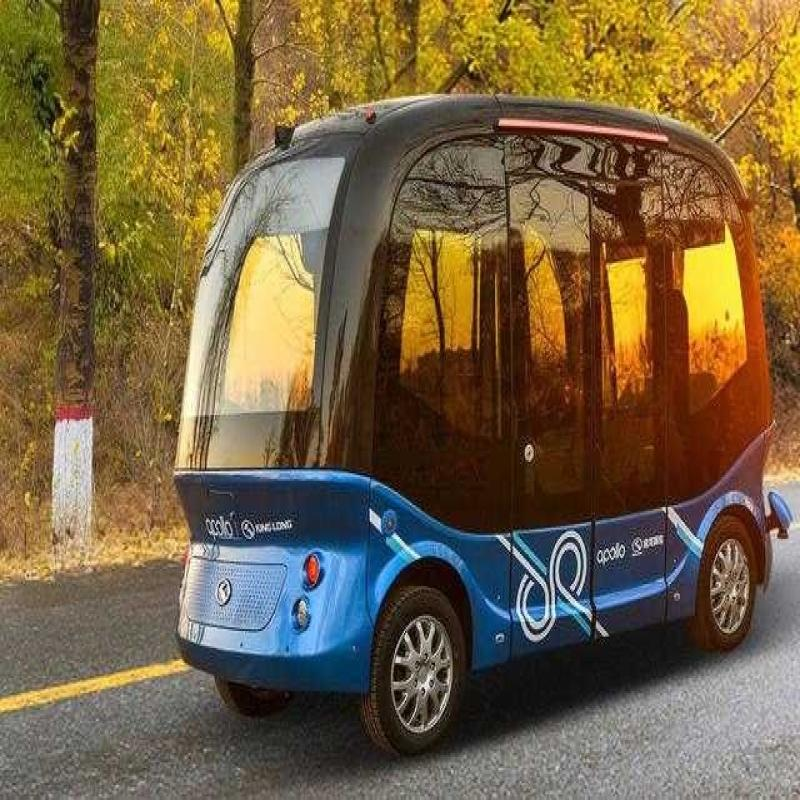bus: (188, 91, 784, 747)
